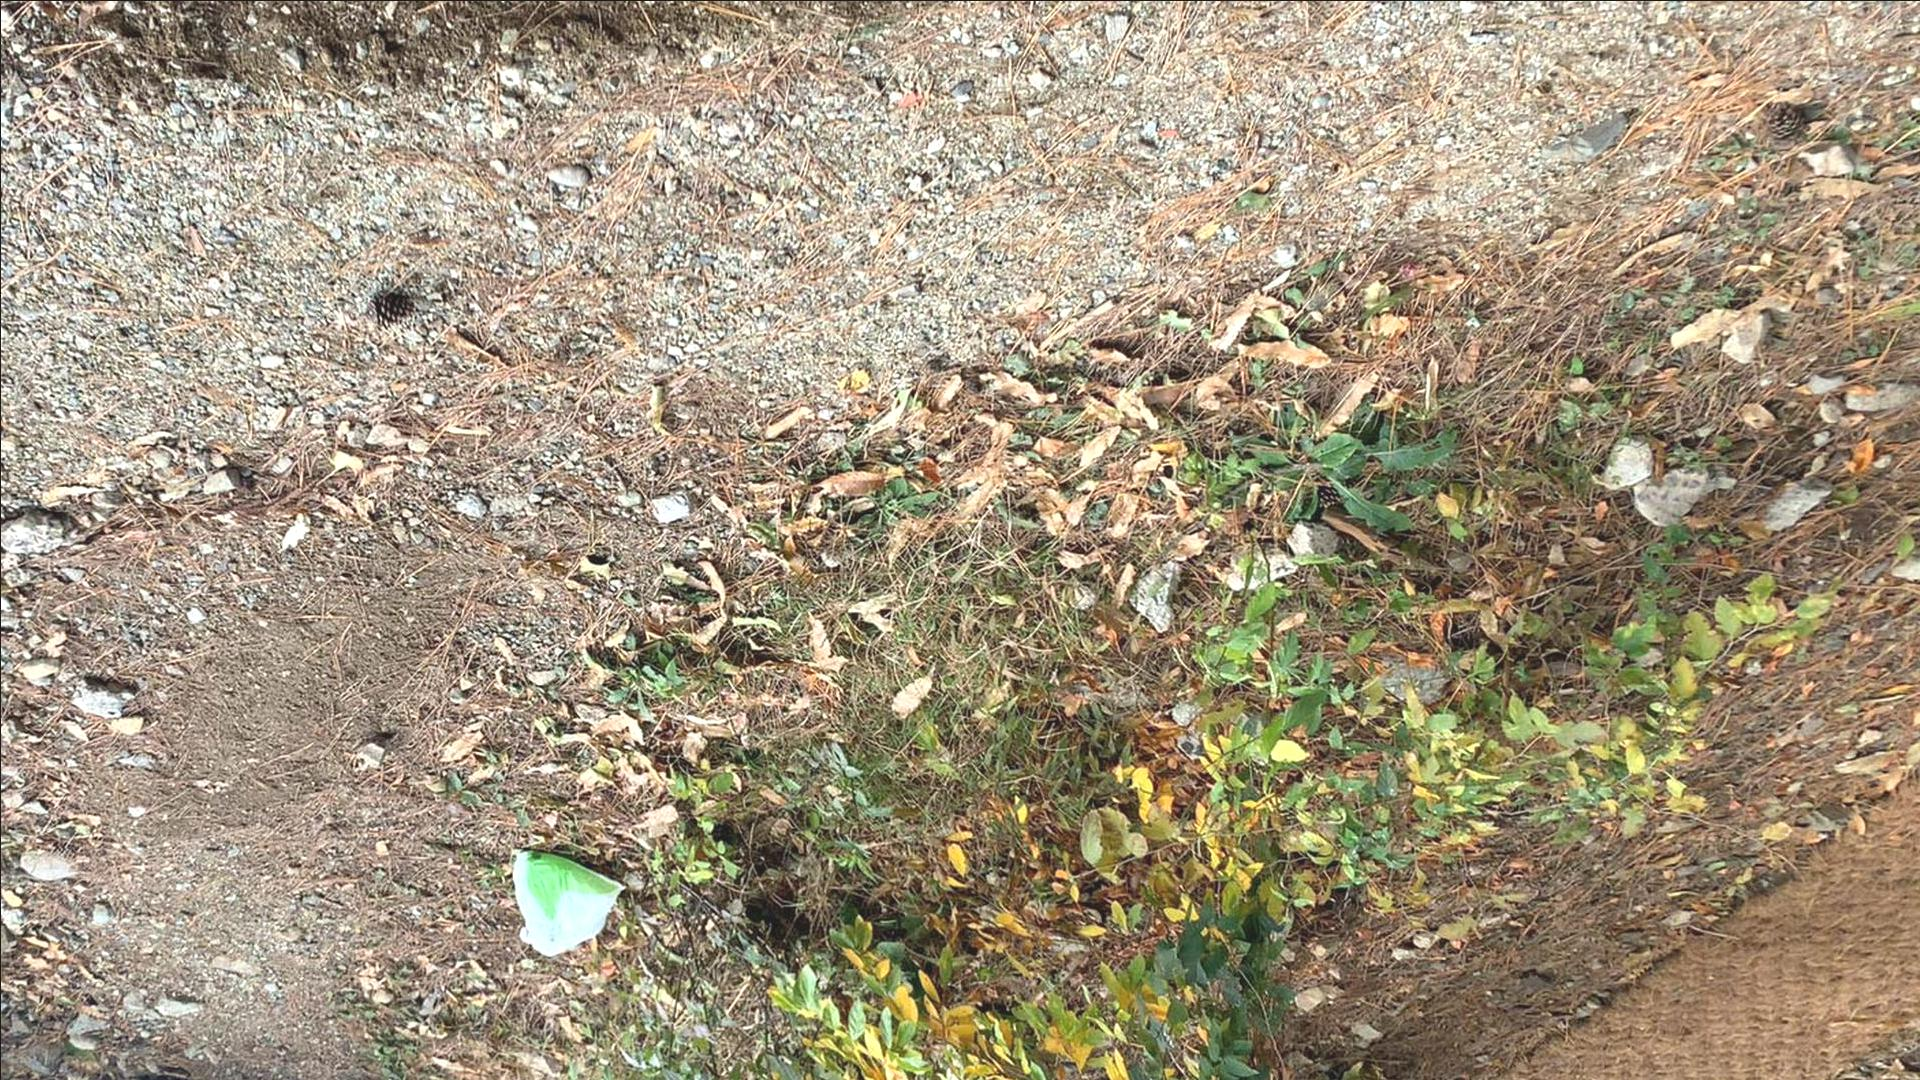white_bag: (492, 840, 644, 963)
